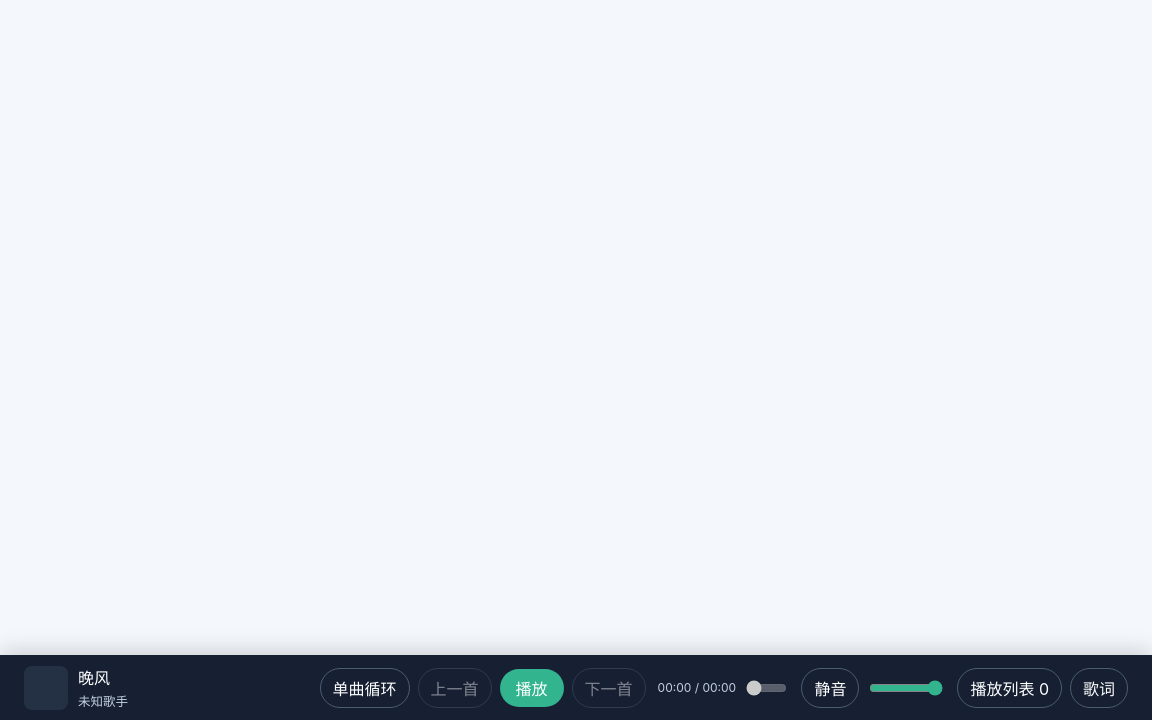
Test: PlayerBar › shows adapter rejection without an unhandled click error
Click the button with aria-label "播放" at x=532, y=688, box [500, 668, 564, 706]
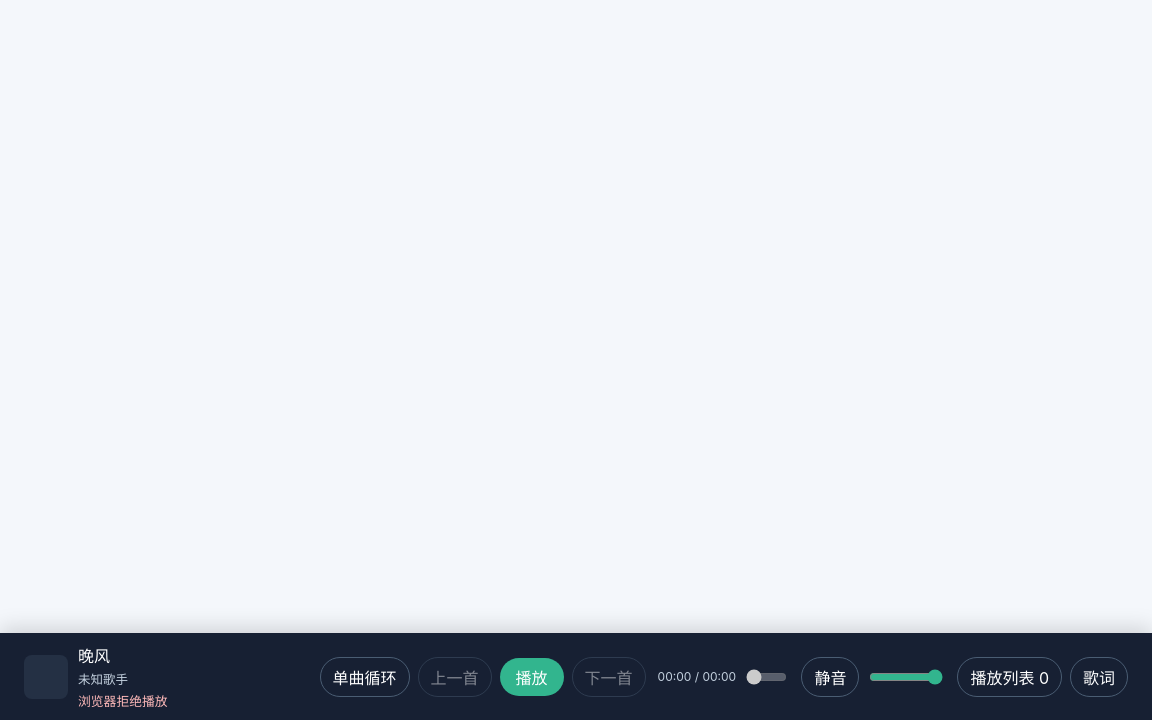
expect the message "浏览器拒绝播放" is shown: met, box [78, 694, 168, 709]
